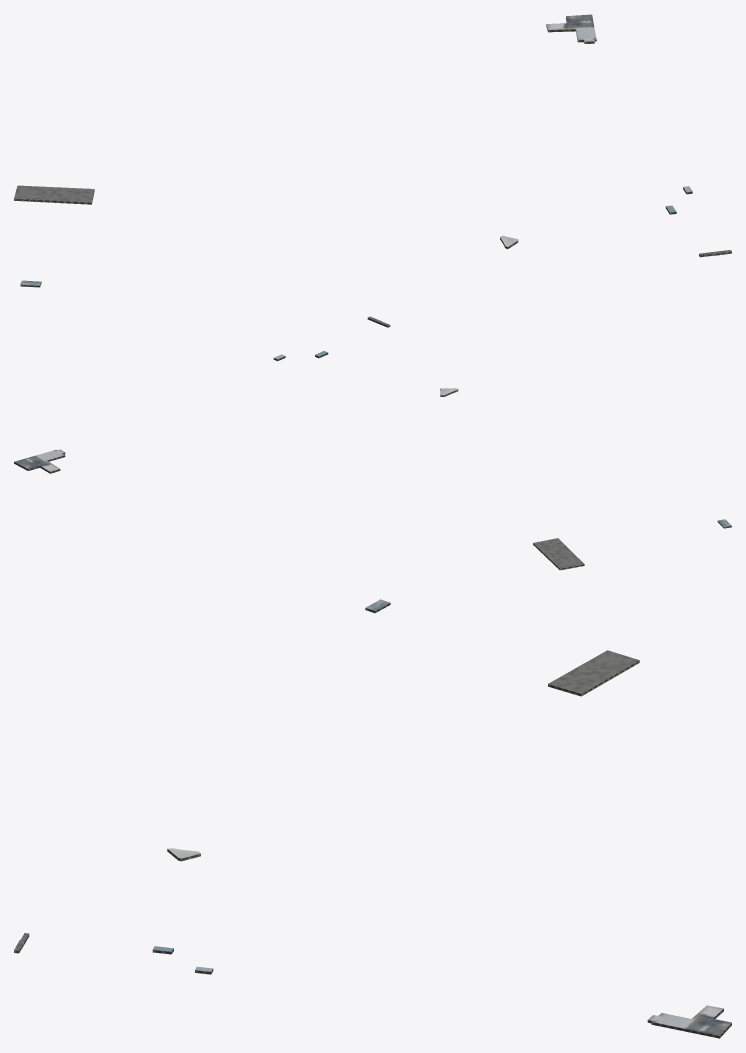
3 views of the same model, one above another, from view 1: azimuth 30°, elevation 25°; view 2: azimuth 150°, elevation 25°; view 3: azimuth 270°, elevation 25° (orthographic). The views are drawn at different scales.
Visible parts, largest first — view 1: SlateRoof, SlateRoof surveyed; view 2: SlateRoof, SlateRoof surveyed; view 3: SlateRoof, SlateRoof surveyed.
Part boxes in pixels (bbox=[...]): SlateRoof: bbox=[14, 15, 731, 253]; SlateRoof surveyed: bbox=[546, 14, 692, 212]; SlateRoof: bbox=[19, 316, 583, 568]; SlateRoof surveyed: bbox=[14, 351, 327, 471]; SlateRoof: bbox=[14, 650, 730, 1035]; SlateRoof surveyed: bbox=[153, 946, 731, 1035].
Size of the model in its own units: 1722 by 5.23 by 1195.
Materials: 8 (8 with a texture image).
